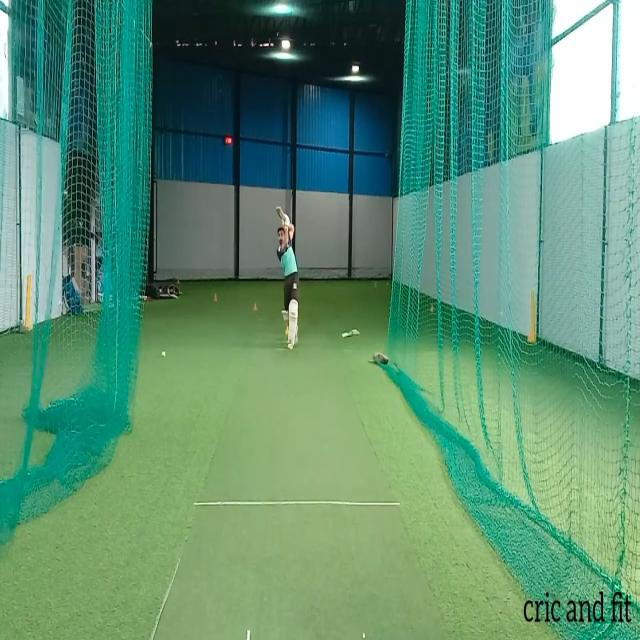batsman: (276, 204, 300, 351)
